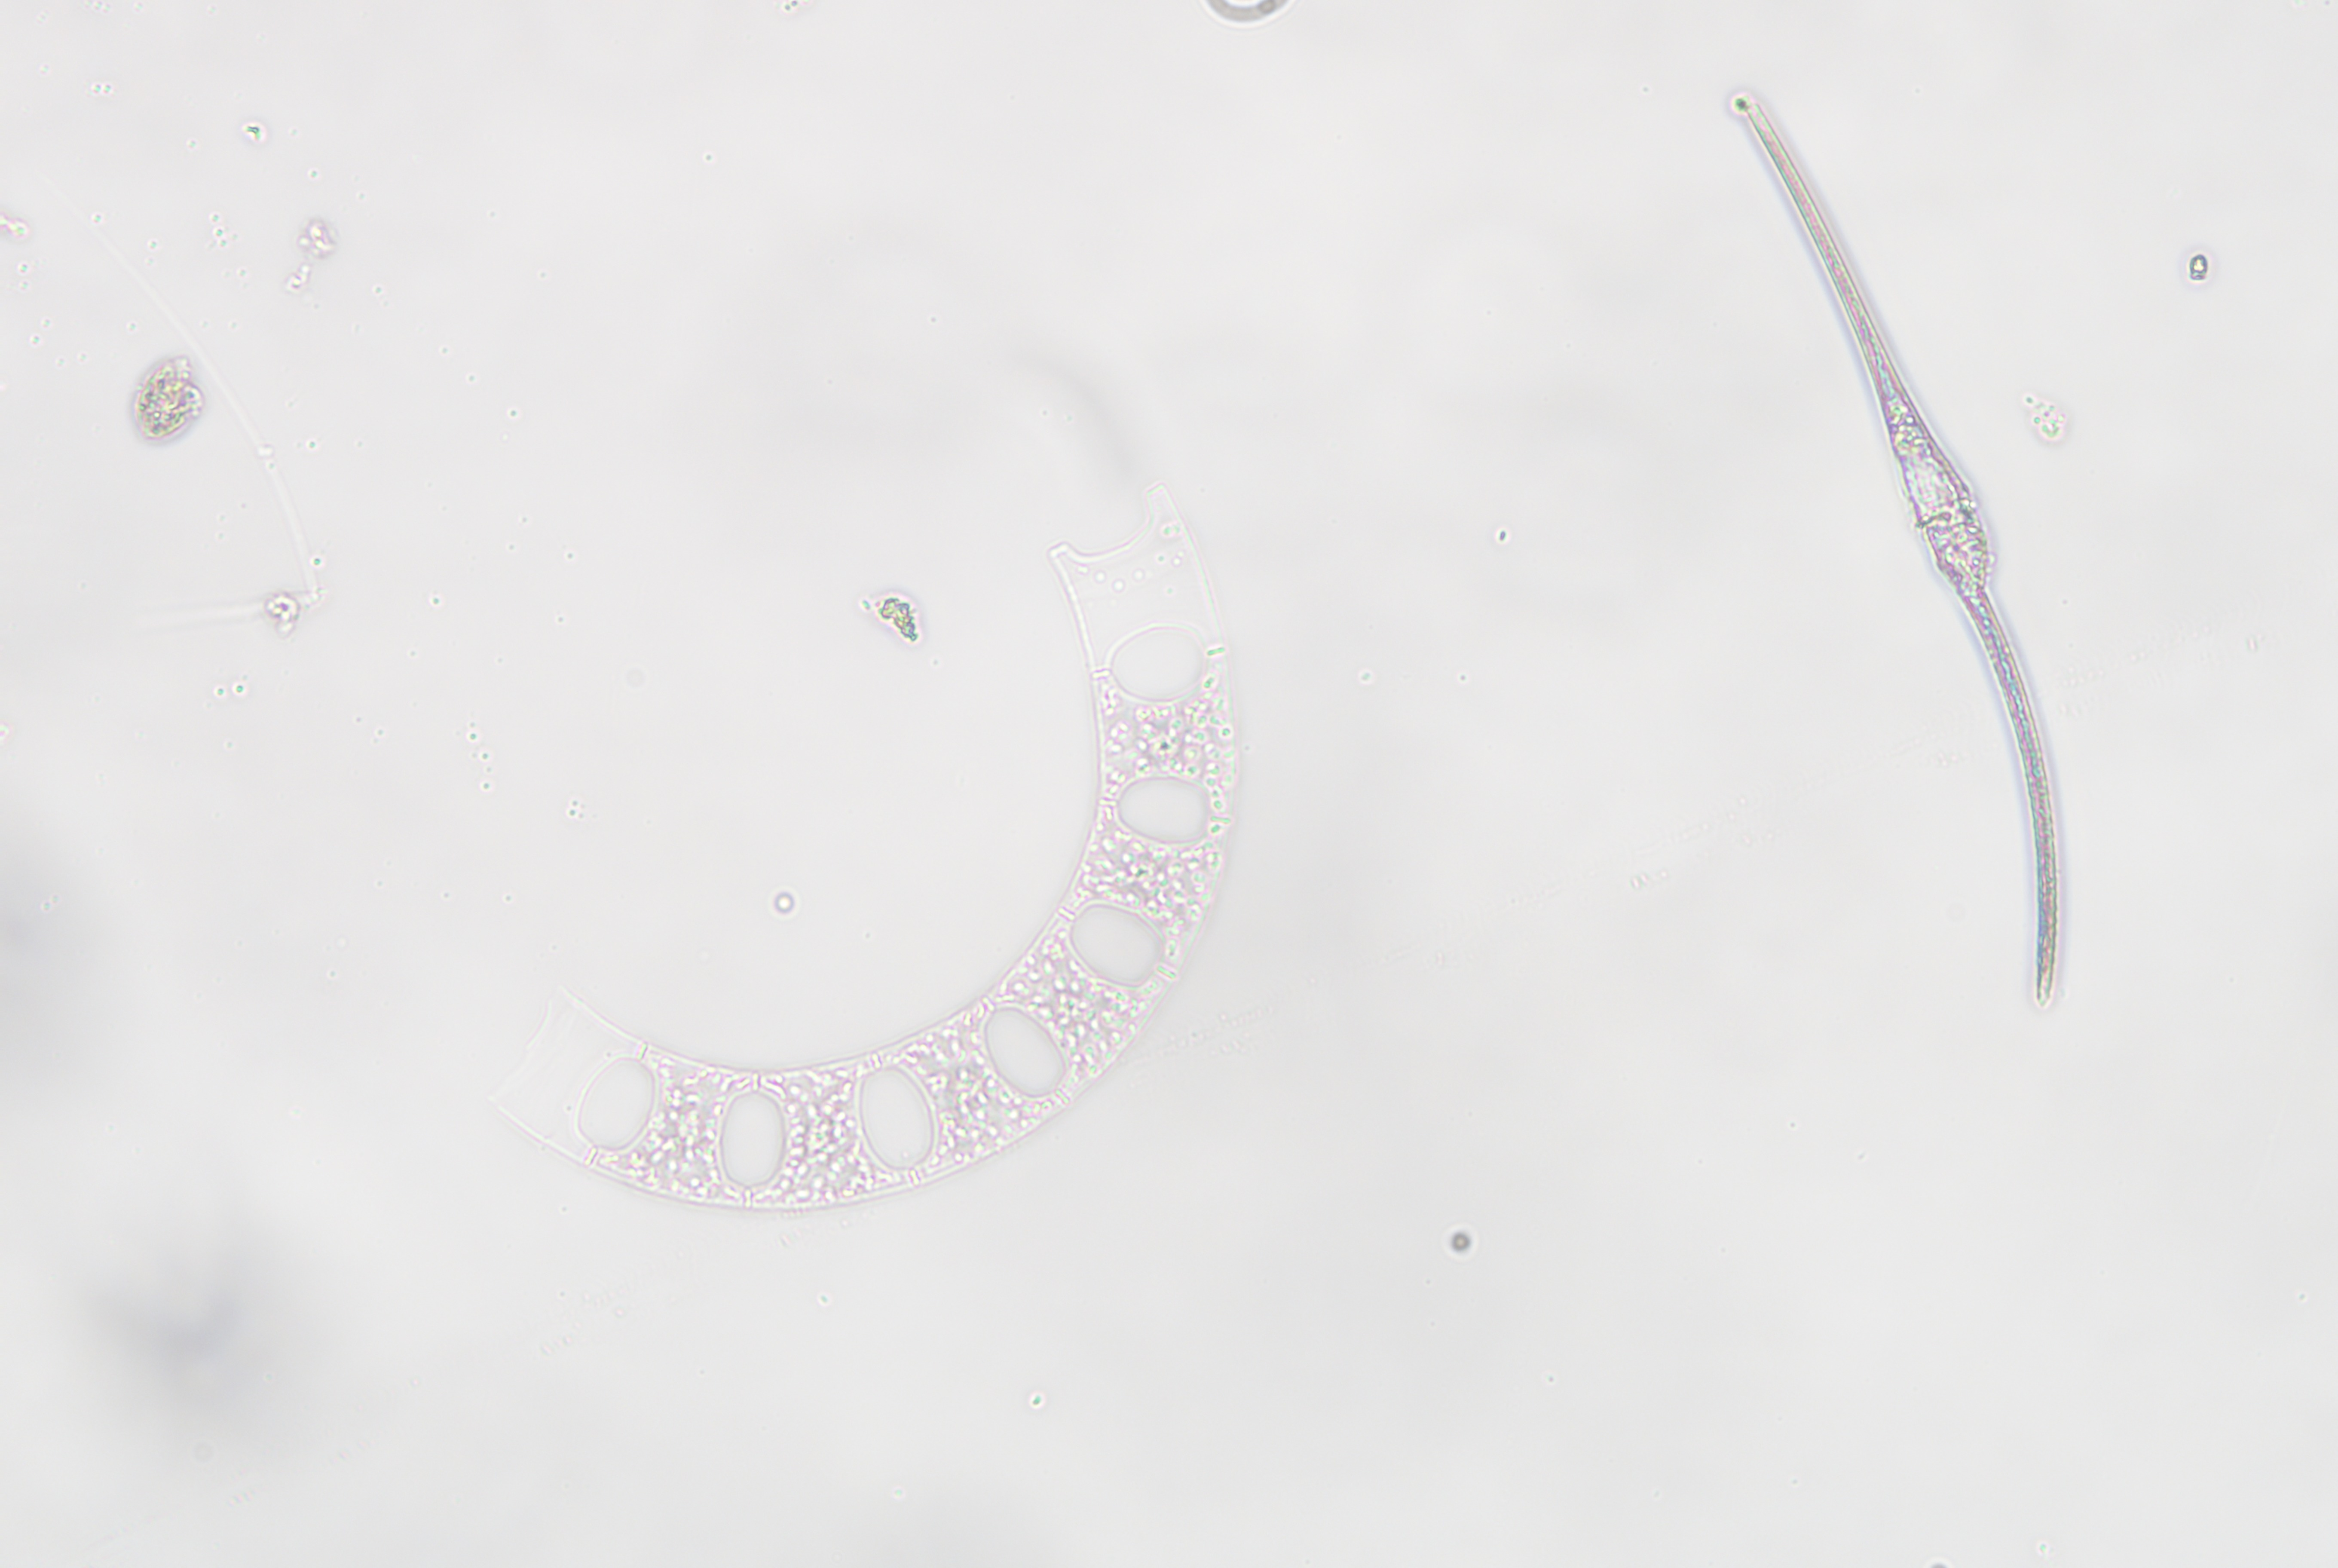ceratium fusus: (1745, 101, 2060, 1004)
eucampia: (504, 481, 1241, 1211)
